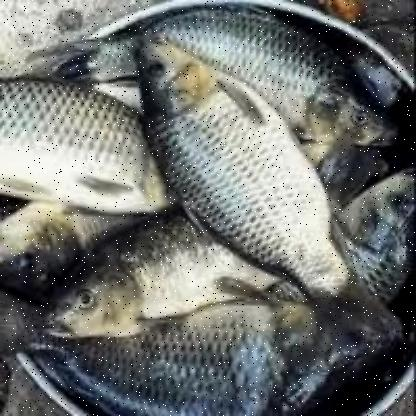ikan-pacu: (145, 33, 335, 281), (27, 302, 389, 414), (102, 10, 392, 140), (52, 216, 250, 320)
